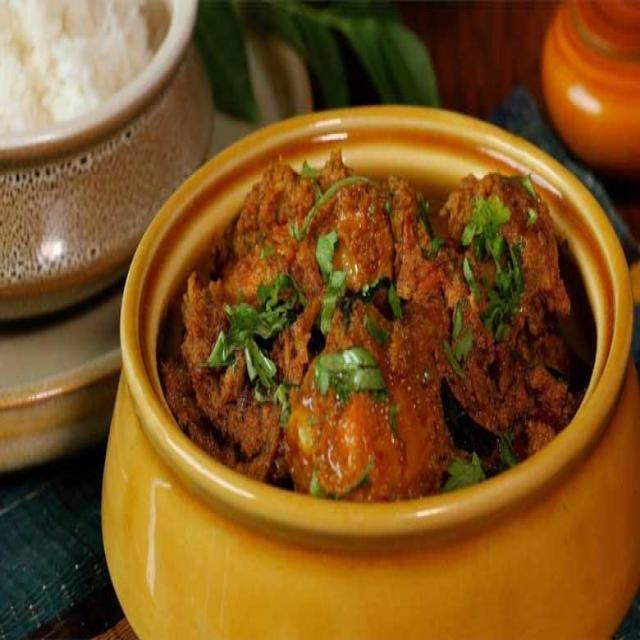chicken: (182, 163, 584, 468)
